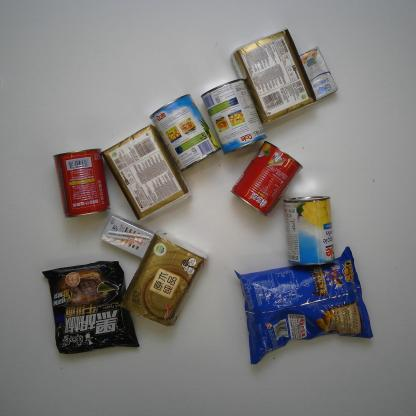Canned Food: (228, 137, 304, 219), (148, 92, 224, 173), (199, 77, 269, 157), (51, 145, 112, 221), (280, 193, 338, 268)
Instant Noodles: (40, 259, 143, 356)
Milk: (99, 213, 156, 260), (296, 44, 340, 102)
Puffed Food: (232, 243, 375, 367)
Tissue: (99, 122, 194, 224), (227, 25, 319, 126), (118, 227, 210, 328)
